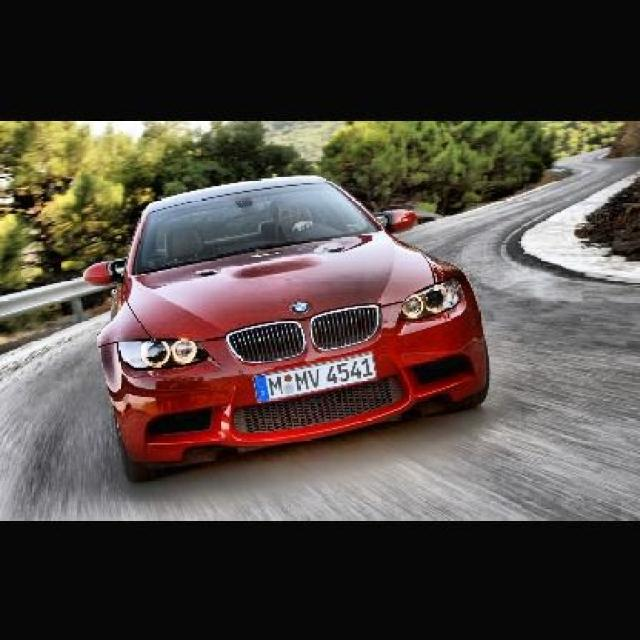maroon: (96, 175, 490, 477)
